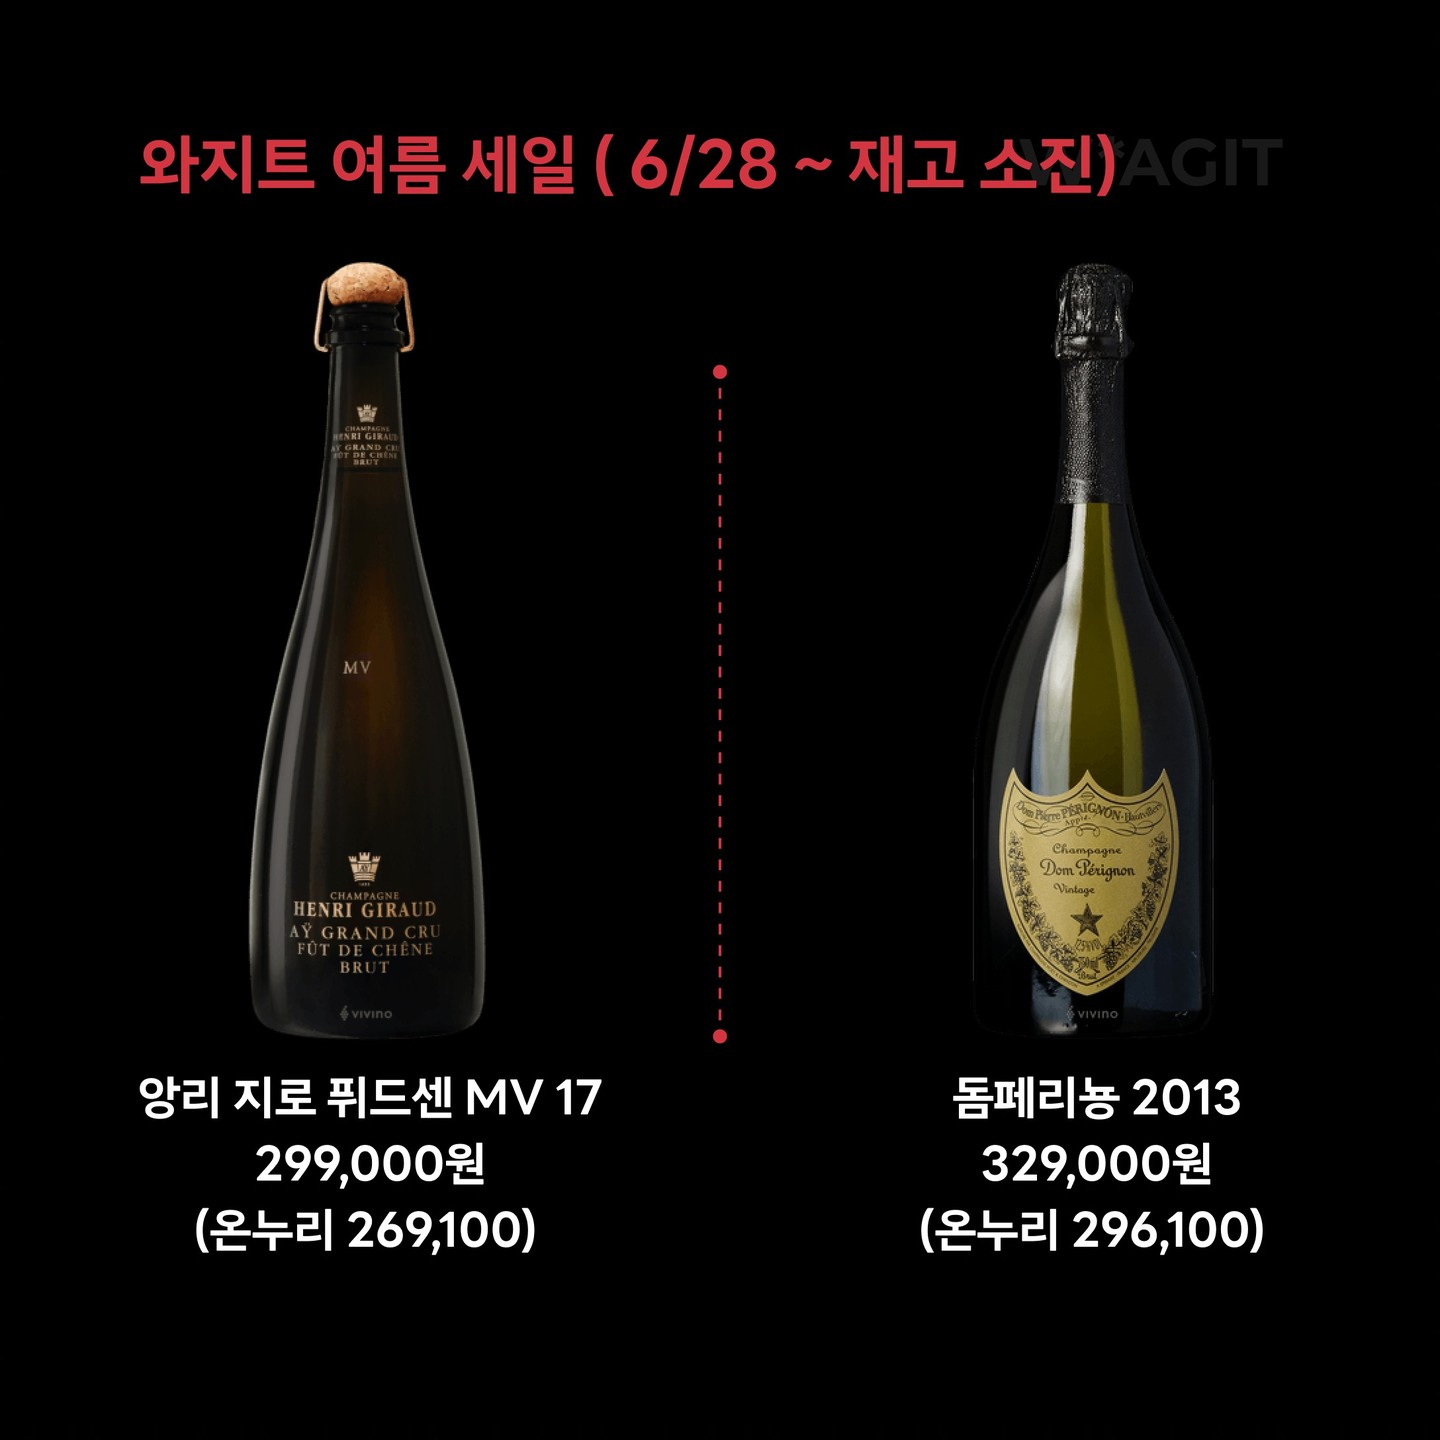alcohol: (961, 251, 1224, 1055), (239, 251, 495, 1054)
